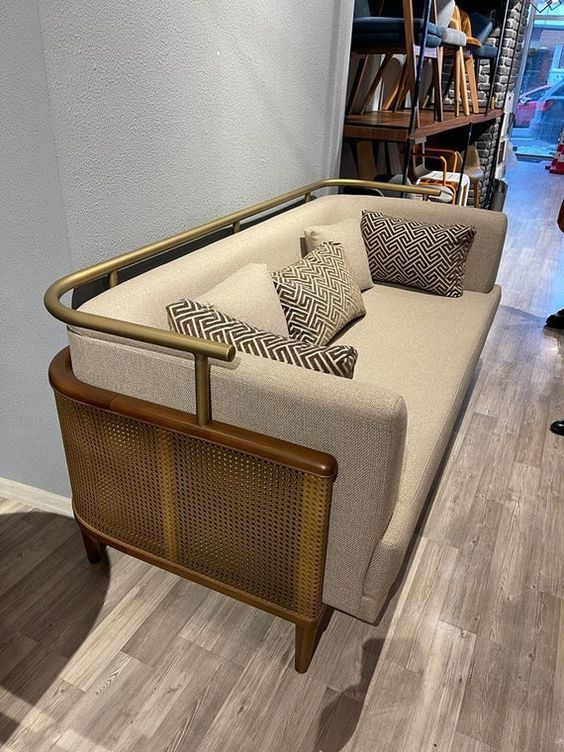3seatersofa: (46, 180, 506, 672)
backrest: (82, 198, 363, 325)
leftarmrest: (338, 196, 506, 292)
leg: (50, 351, 335, 669)
pillow: (167, 241, 365, 378), (306, 210, 473, 297)
rightarmrest: (212, 354, 405, 619), (71, 332, 192, 411)
seat: (337, 286, 500, 605)
